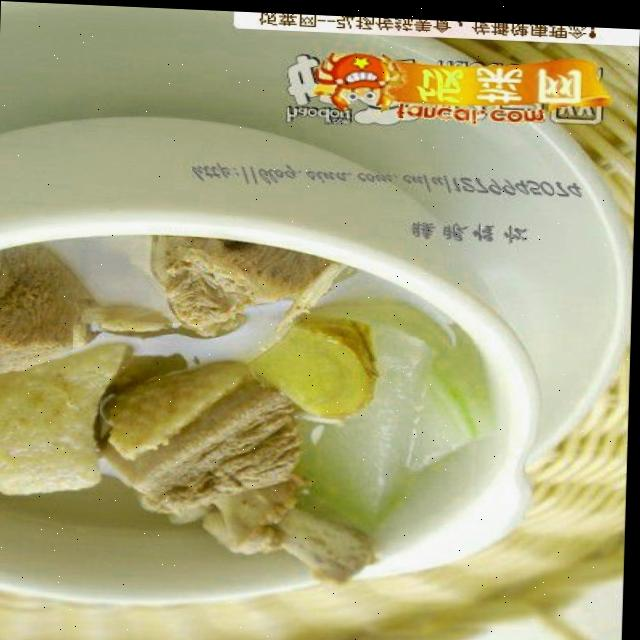汤锅炖物: (0, 78, 550, 635)
